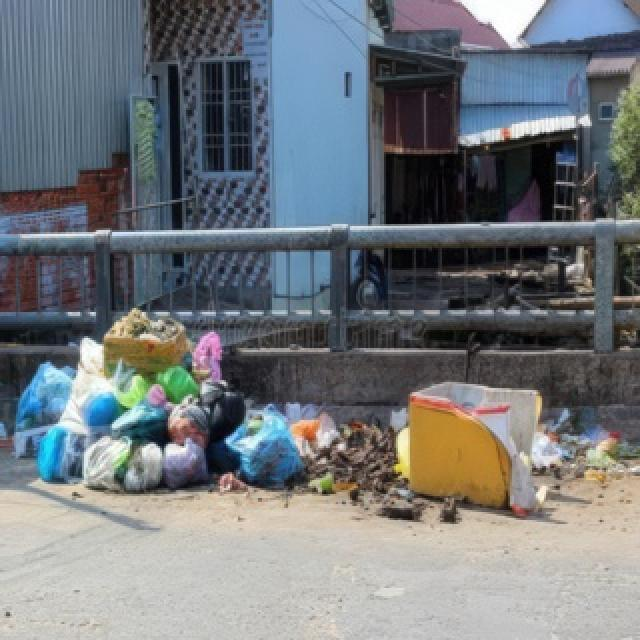high trash: (16, 309, 394, 492), (350, 382, 640, 522)
